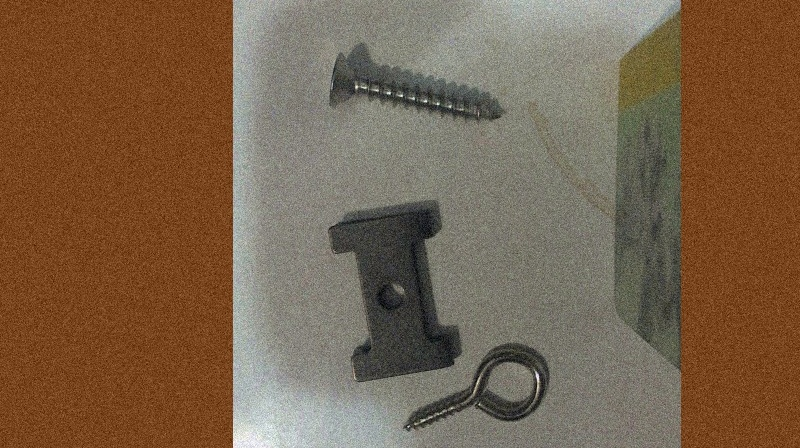O001: (400, 340, 550, 433)
O002: (324, 207, 453, 385)
S001: (324, 47, 502, 123)
